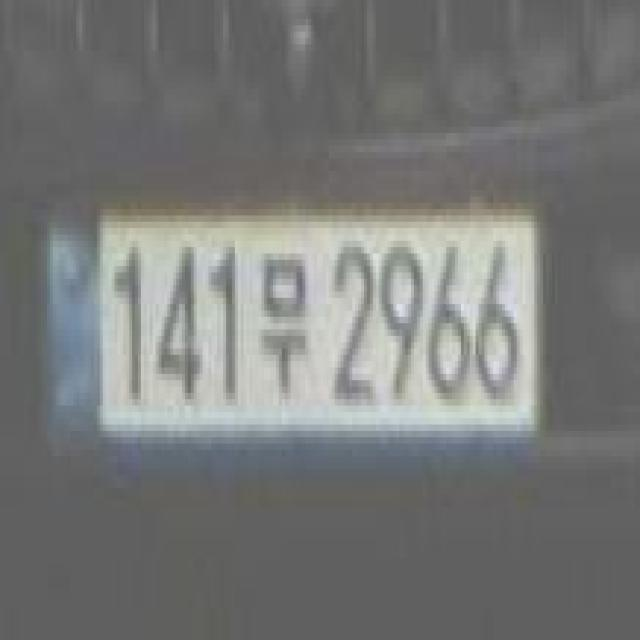illegal_plate: (52, 195, 546, 480)
